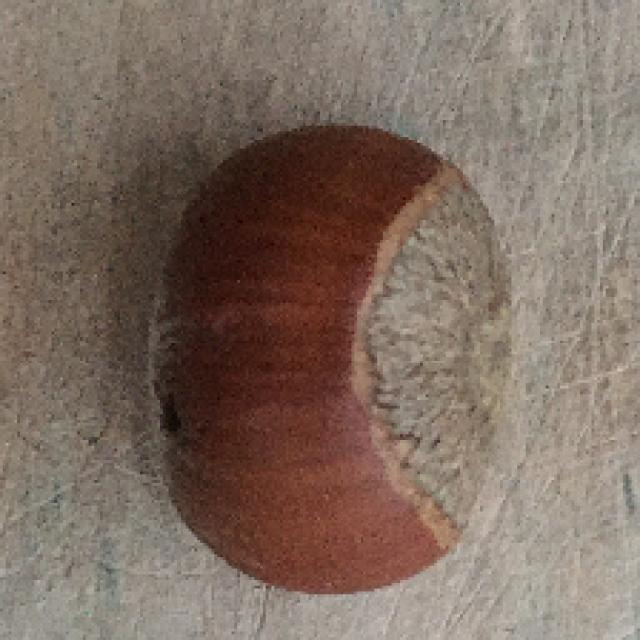qualityHazelnut: (145, 112, 518, 596)
